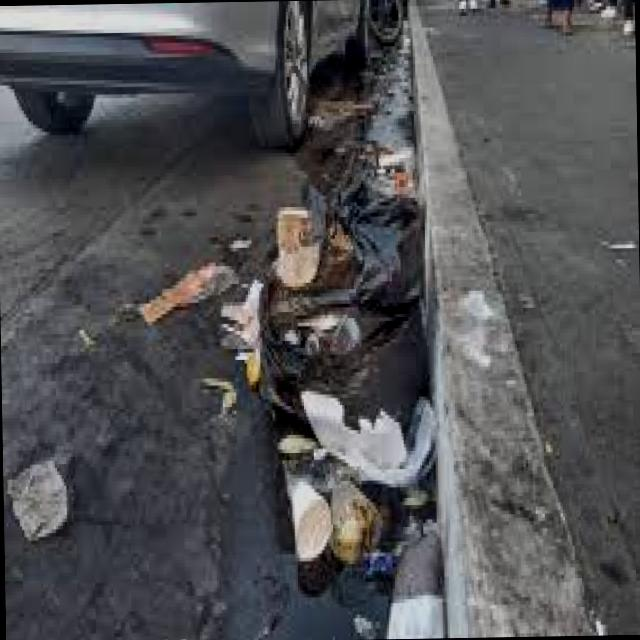garbage: (140, 184, 438, 594)
